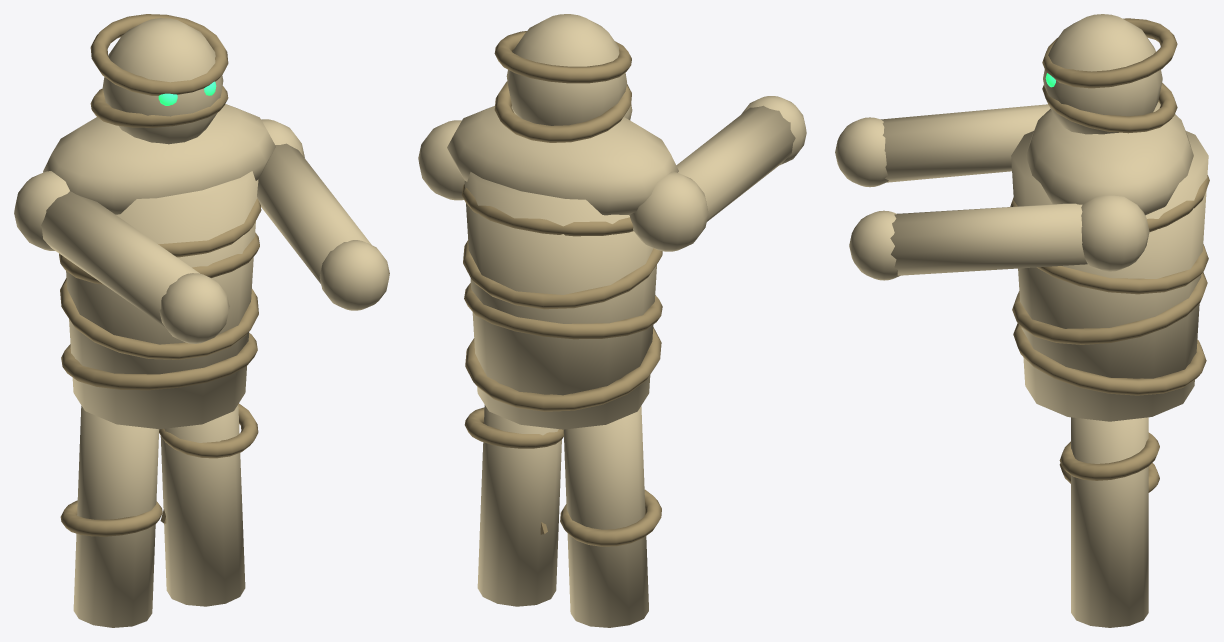
File: mummy.glb
3 renders of one model, left to right at view 1: azimuth 30°, elevation 25°; view 2: azimuth 150°, elevation 25°; view 3: azimuth 270°, elevation 25°, orthographic.
Visible parts, largest first — view 1: mummy; view 2: mummy; view 3: mummy.
Part boxes in pixels (x1=…): mummy: x1=14, y1=14, x2=389, y2=627; mummy: x1=418, y1=14, x2=806, y2=627; mummy: x1=835, y1=14, x2=1209, y2=627.
Bounding box in the file's own units: 0.4525 × 0.8957 × 0.5313.
